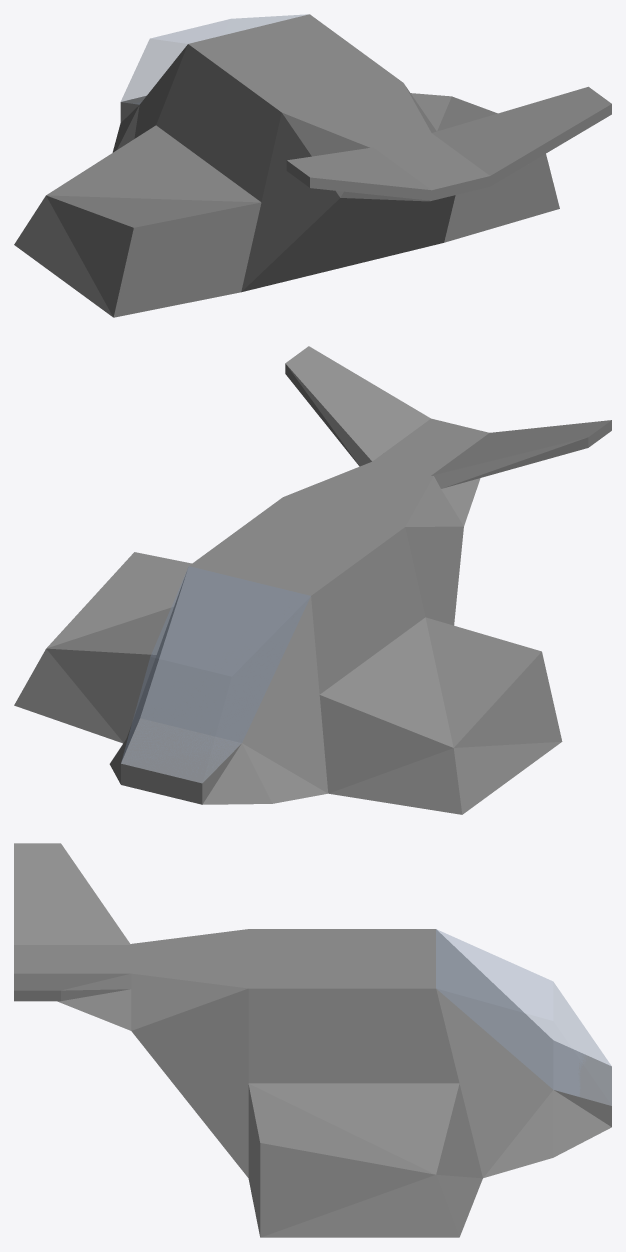
Rendered from data.dae.
3 views of the same model, one above another, from view 1: azimuth 30°, elevation 25°; view 2: azimuth 150°, elevation 25°; view 3: azimuth 270°, elevation 25° (orthographic).
Visible parts, largest first — view 1: Body, Wing_L, TailWing_R, Wing_R, TailWing_L, Cockpit; view 2: Body, Wing_L, Cockpit, Wing_R, TailWing_R, TailWing_L; view 3: Body, Wing_R, Cockpit, TailWing_L, TailWing_R.
Boxes of the visible parts, box(x1,y1,x2,y2) form: Body: box(112, 14, 490, 292); Wing_L: box(14, 125, 261, 317); TailWing_R: box(432, 86, 611, 186); Wing_R: box(411, 93, 559, 242); TailWing_L: box(286, 147, 431, 200); Cockpit: box(121, 14, 307, 104); Body: box(109, 418, 489, 804); Wing_L: box(319, 617, 562, 814); Cockpit: box(121, 566, 310, 782); Wing_R: box(14, 552, 191, 743); TailWing_R: box(285, 346, 430, 466); TailWing_L: box(431, 420, 611, 488); Body: box(14, 929, 611, 1178); Wing_R: box(248, 1083, 482, 1237); Cockpit: box(436, 929, 611, 1105); TailWing_L: box(14, 843, 130, 944); TailWing_R: box(14, 973, 131, 1001).
Bounding box in the file's own units: 8.8 × 10.2 × 4.
2 materials, 2 textured.
